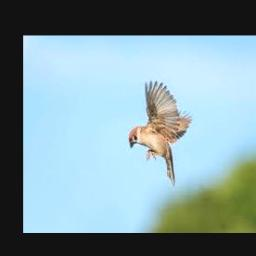Sparrow: (128, 81, 192, 186)
